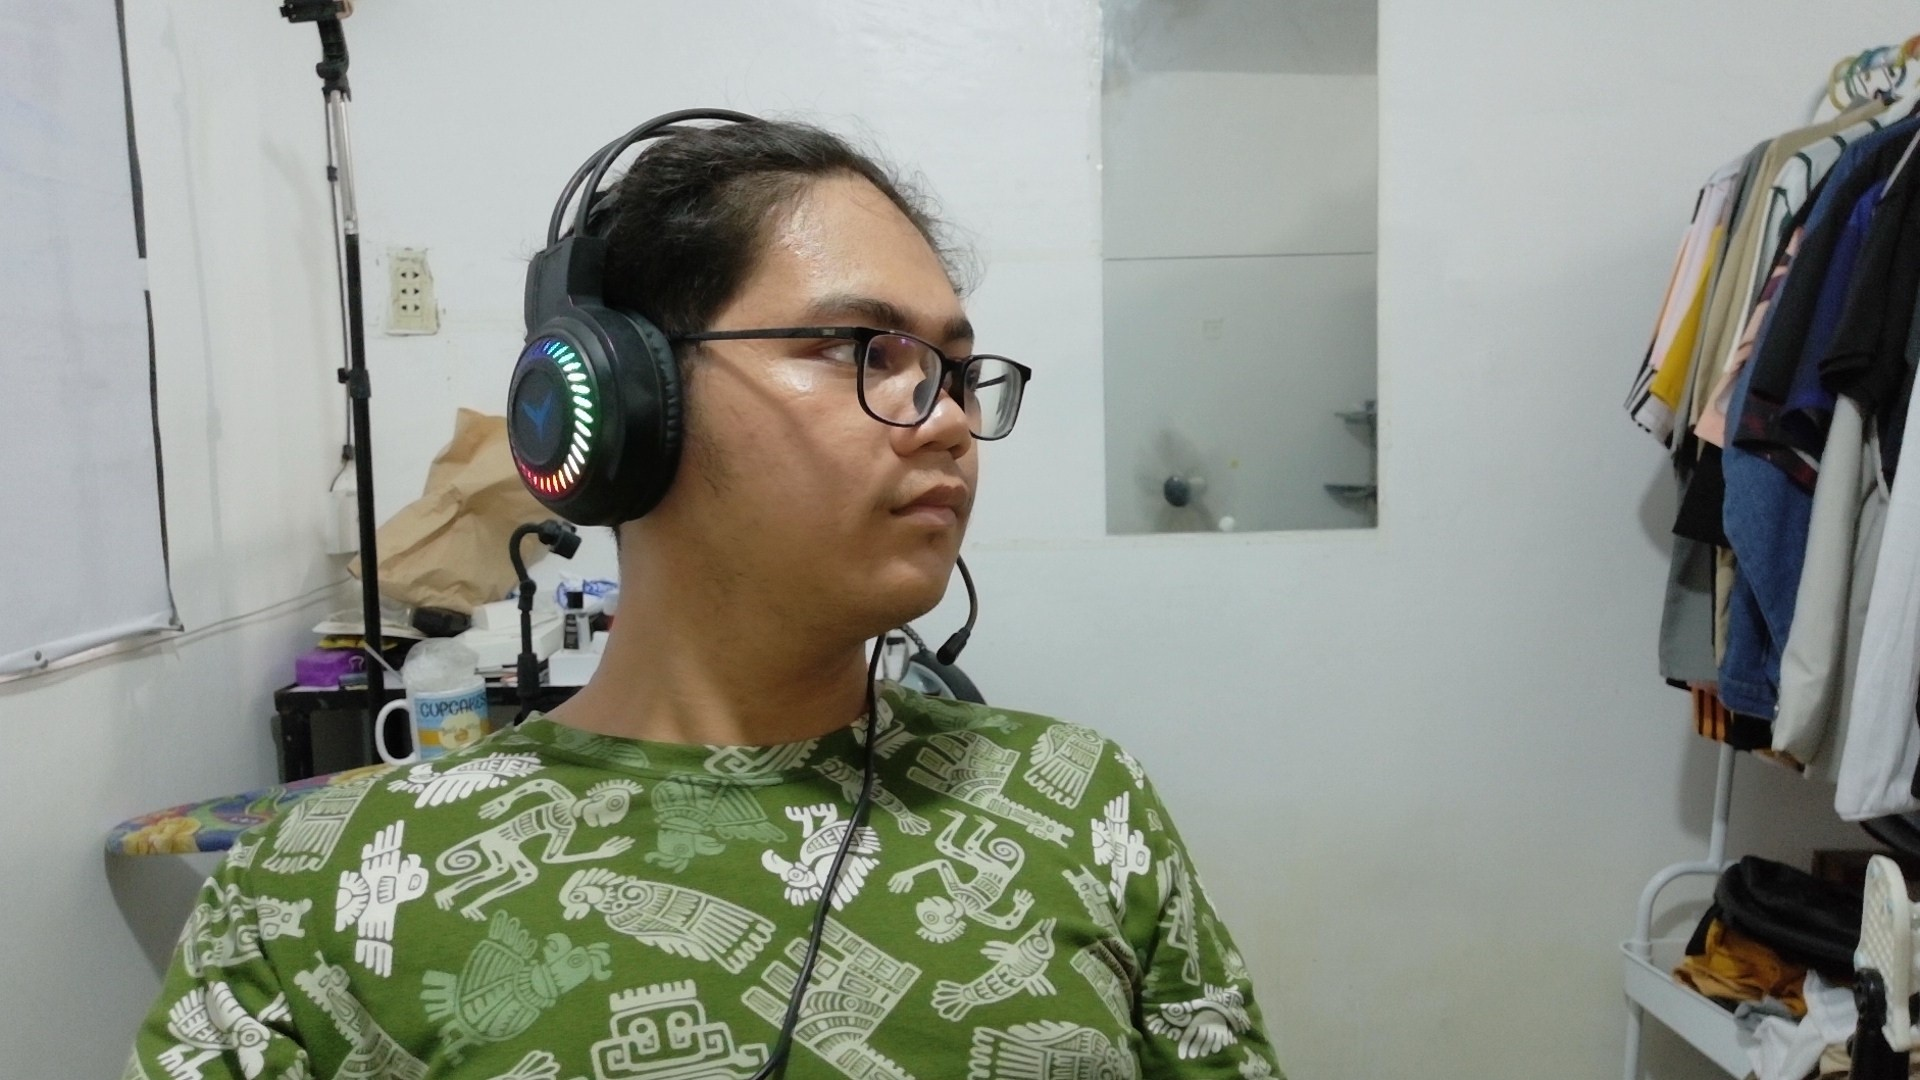face: (459, 68, 1093, 668)
